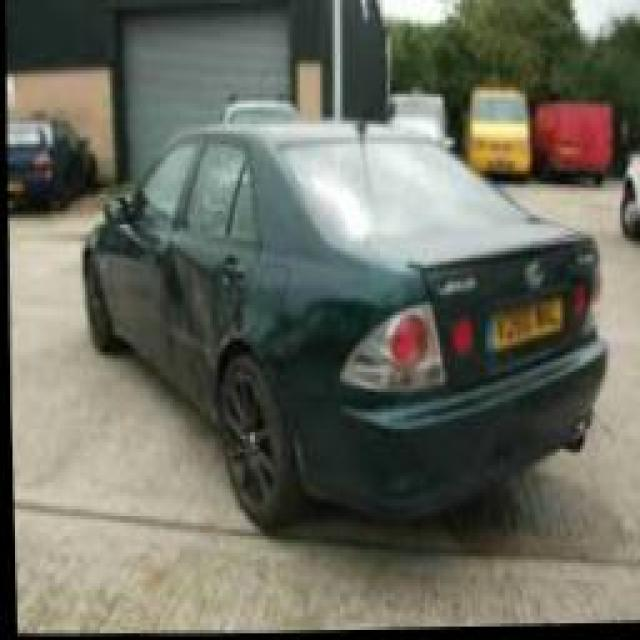replaceable: (154, 246, 248, 412)
